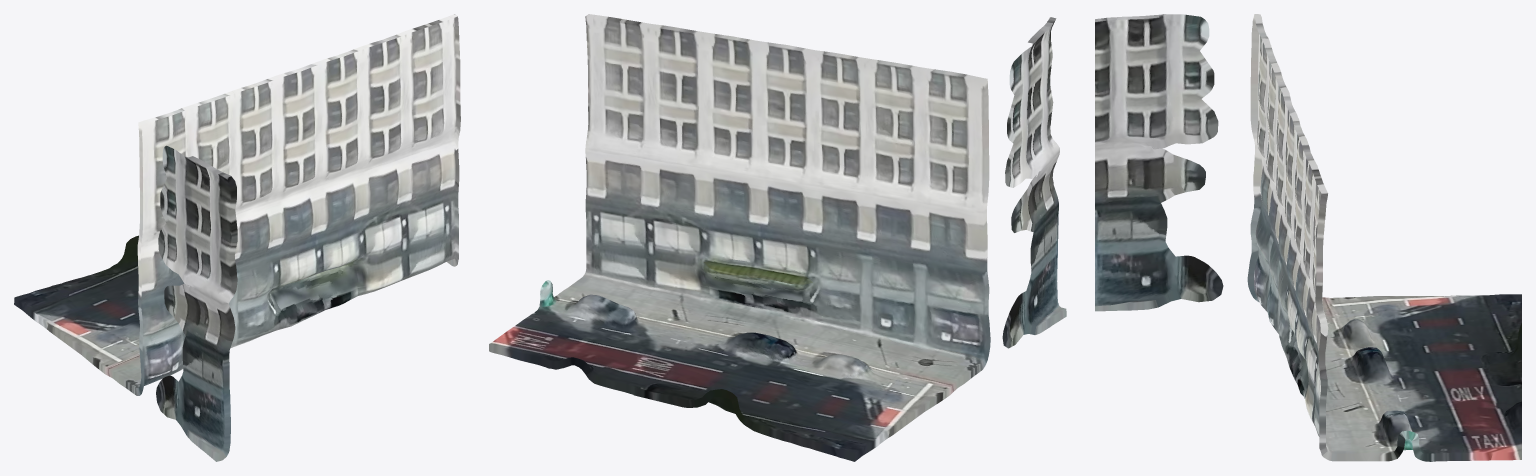
File: z20-167752-405245-h0-yup-uvflip-v3-world.glb
The picture shows the model from 3 angles, left to right: view 1: azimuth 30°, elevation 25°; view 2: azimuth 150°, elevation 25°; view 3: azimuth 270°, elevation 25°; orthographic projection. The views are drawn at different scales.
Bounding box in the file's own units: 30.2 × 23.32 × 30.32.
1 material, 1 textured.
